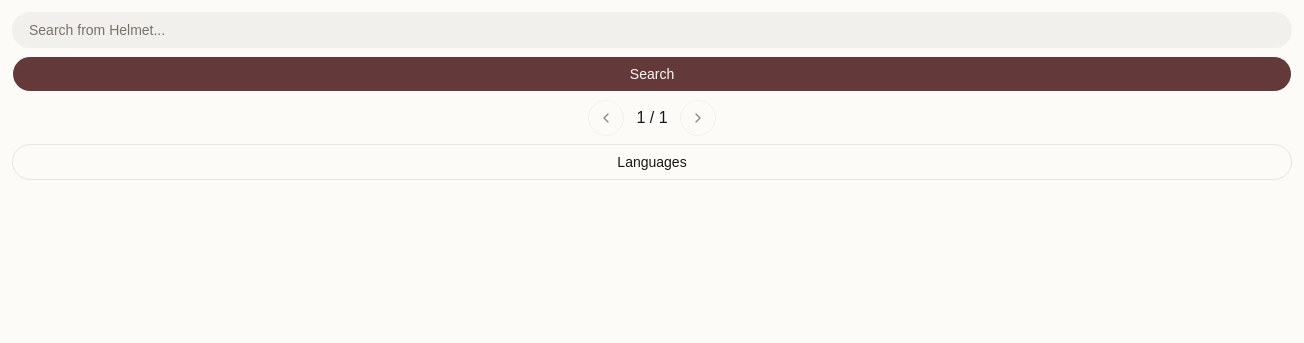
Test: shows book search result
The image size is (1304, 343).
In the field with placeholder "Search from Helmet...": (652, 30) [12,12,1292,48], type "1984"
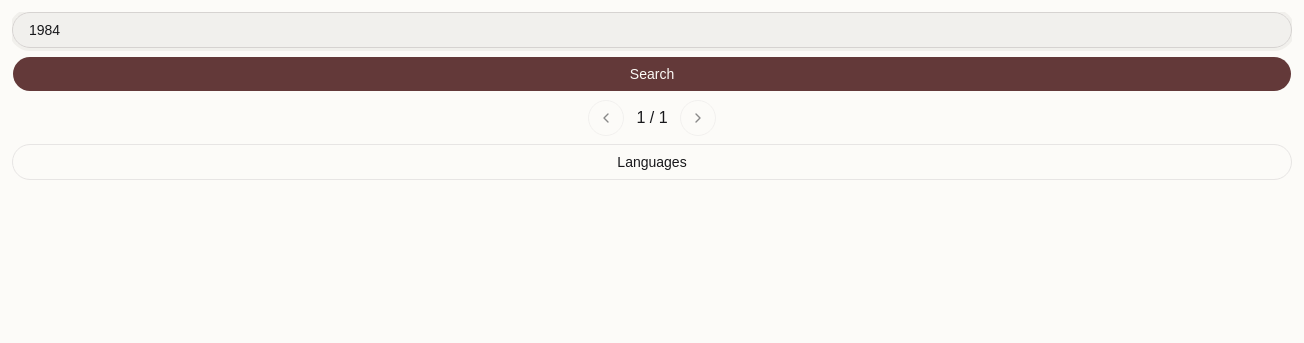
Click the button "Search": click(652, 74) [12,56,1292,92]
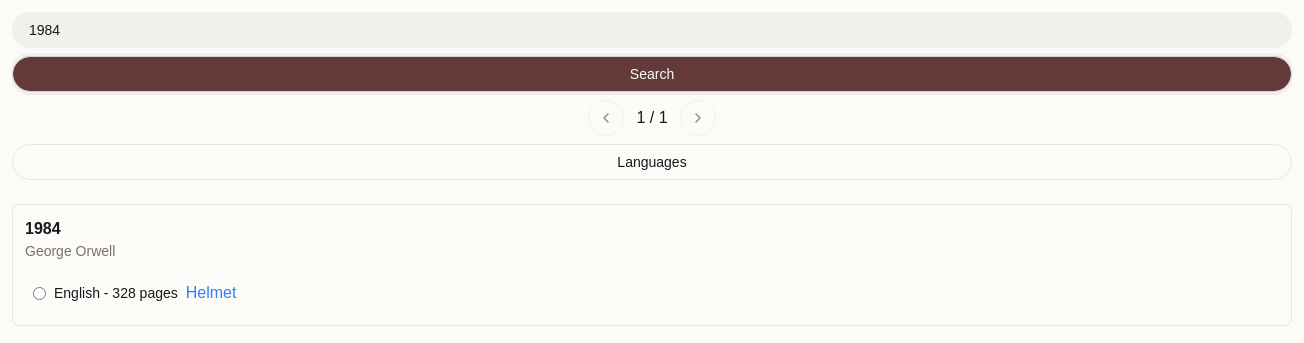
Expected: the text "1984" is shown, [25,220,61,237]
Expected: the text "George Orwell" is shown, [25,243,115,259]
Expected: the text "English - 328 pages" is shown, [54,283,178,303]
